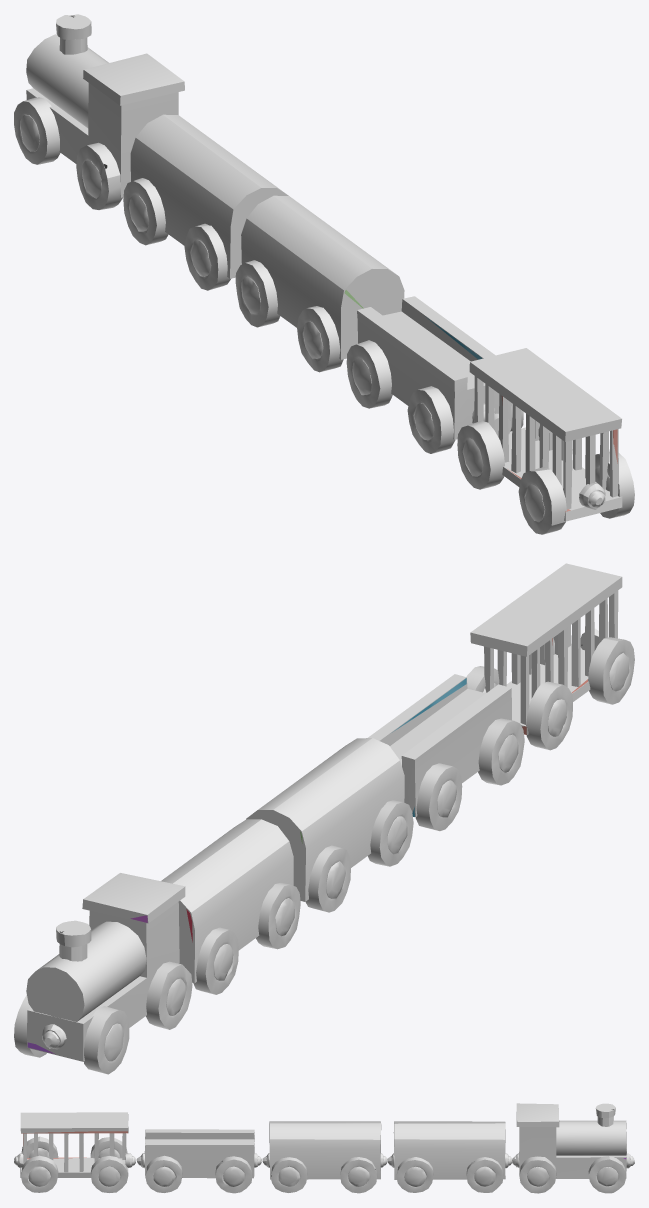
Rendered from ToyTrain.fbx.
3 views of the same model, one above another, from view 1: azimuth 30°, elevation 25°; view 2: azimuth 150°, elevation 25°; view 3: azimuth 270°, elevation 25° (orthographic). The views are drawn at different scales.
Visible parts, largest first — view 1: Cube.005, train, Cube.001, Cube, Cube.003; view 2: train, Cube.005, Cube.001, Cube, Cube.003; view 3: train, Cube.001, Cube, Cube.005, Cube.003.
Boxes of the visible parts, x1=… form: Cube.005: x1=457, y1=348, x2=634, y2=534; train: x1=14, y1=14, x2=184, y2=209; Cube.001: x1=235, y1=195, x2=404, y2=372; Cube: x1=123, y1=114, x2=288, y2=290; Cube.003: x1=346, y1=296, x2=523, y2=453; train: x1=14, y1=873, x2=192, y2=1074; Cube.005: x1=466, y1=563, x2=634, y2=750; Cube.001: x1=246, y1=738, x2=413, y2=912; Cube: x1=161, y1=819, x2=300, y2=994; Cube.003: x1=368, y1=674, x2=524, y2=831; train: x1=512, y1=1103, x2=634, y2=1193; Cube.001: x1=262, y1=1121, x2=387, y2=1193; Cube: x1=387, y1=1121, x2=512, y2=1192; Cube.005: x1=14, y1=1112, x2=136, y2=1192; Cube.003: x1=137, y1=1129, x2=261, y2=1193.
Bounding box in the file's own units: 3.23 × 4.6 × 34.42.
25 materials, 5 textured.
